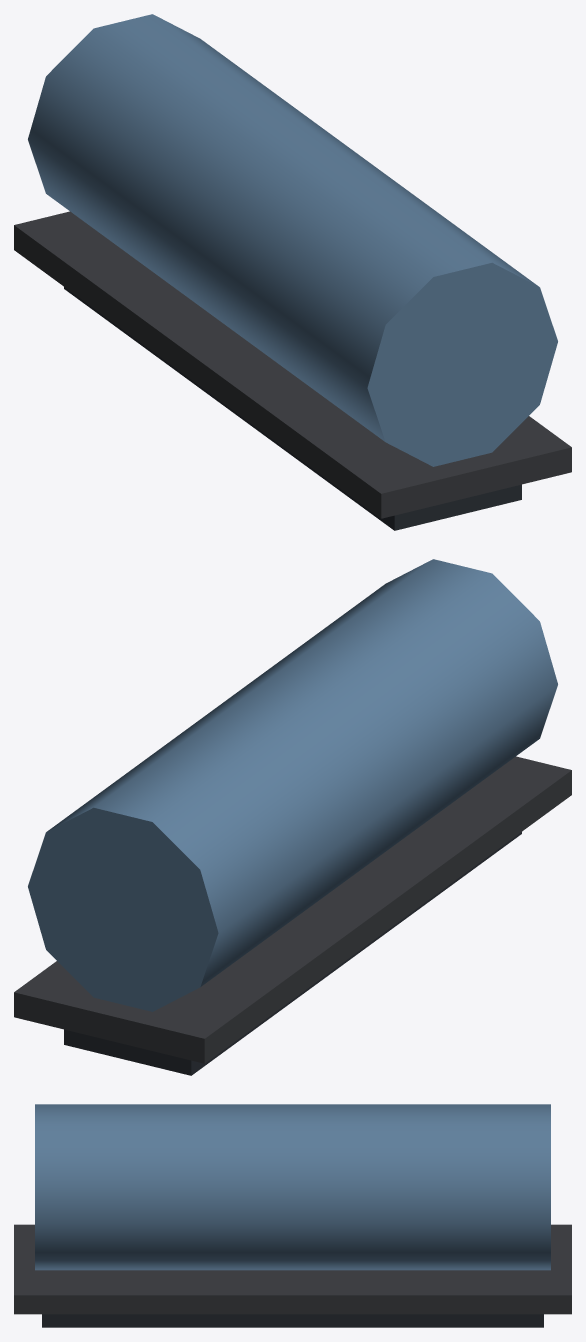
File: veh_ground_rail_wagon_a10.glb
3 views of the same model, one above another, from view 1: azimuth 30°, elevation 25°; view 2: azimuth 150°, elevation 25°; view 3: azimuth 270°, elevation 25° (orthographic). The views are drawn at different scales.
Parts seen in each view (by area): view 1: body; view 2: body; view 3: body.
Part boxes in pixels (x1,y1,x2,y2): body: (14, 14, 571, 530); body: (14, 559, 571, 1075); body: (14, 1104, 571, 1327).
Size of what is drawn, in the model's own units: 2.4 by 3.04 by 8.
